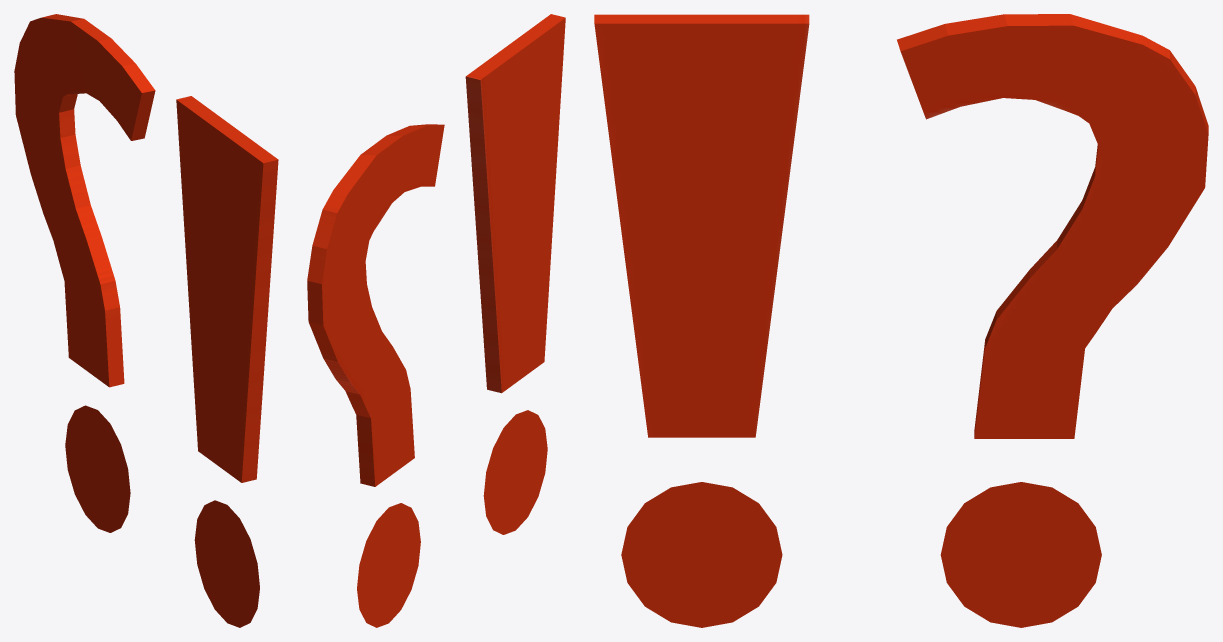
The model's file is ExclamationModel.fbx.
3 views of the same model, side by side, from view 1: azimuth 30°, elevation 25°; view 2: azimuth 150°, elevation 25°; view 3: azimuth 270°, elevation 25° (orthographic). The views are drawn at different scales.
Parts seen in each view (by area): view 1: Cube, Cube.001, Circle.001, Circle; view 2: Cube, Cube.001, Circle, Circle.001; view 3: Cube, Cube.001, Circle, Circle.001.
Part boxes in pixels (left/top/right/bottom): Cube: left=176, top=96, right=278, bottom=482; Cube.001: left=14, top=14, right=155, bottom=387; Circle.001: left=65, top=405, right=130, bottom=532; Circle: left=194, top=500, right=259, bottom=627; Cube: left=465, top=14, right=565, bottom=393; Cube.001: left=307, top=124, right=444, bottom=486; Circle: left=483, top=410, right=547, bottom=534; Circle.001: left=357, top=503, right=420, bottom=627; Cube: left=594, top=14, right=809, bottom=437; Cube.001: left=897, top=14, right=1208, bottom=438; Circle: left=621, top=482, right=782, bottom=627; Circle.001: left=940, top=482, right=1101, bottom=627.
Size of the model in its own units: 0.4284 by 12.51 by 11.43.
